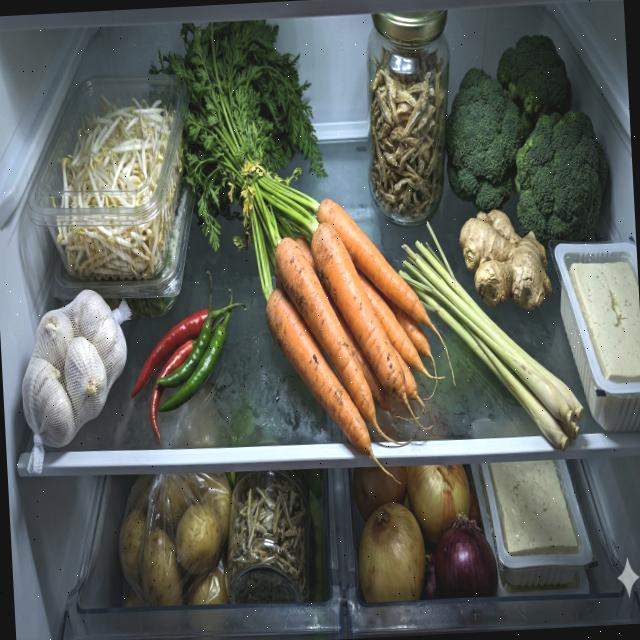anchovies: (363, 42, 458, 226), (223, 478, 310, 608)
bean_sprouts: (48, 88, 193, 286)
brocolli: (439, 31, 611, 258)
carrot: (260, 192, 462, 494)
chili: (126, 268, 255, 448)
garlic: (16, 286, 132, 451)
ginger: (457, 206, 554, 315)
lemongrass: (396, 214, 586, 458)
onion: (352, 460, 500, 605)
potato: (115, 472, 238, 610)
tofu: (568, 260, 640, 386), (490, 458, 579, 558)
